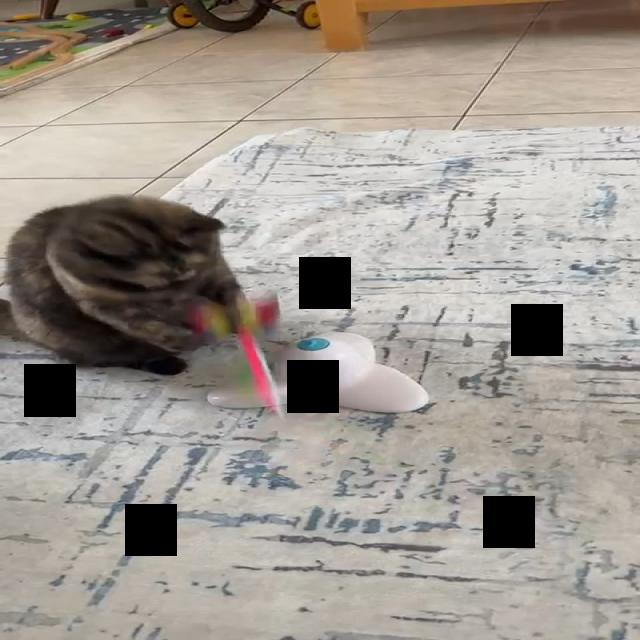authorized: (1, 193, 255, 376)
